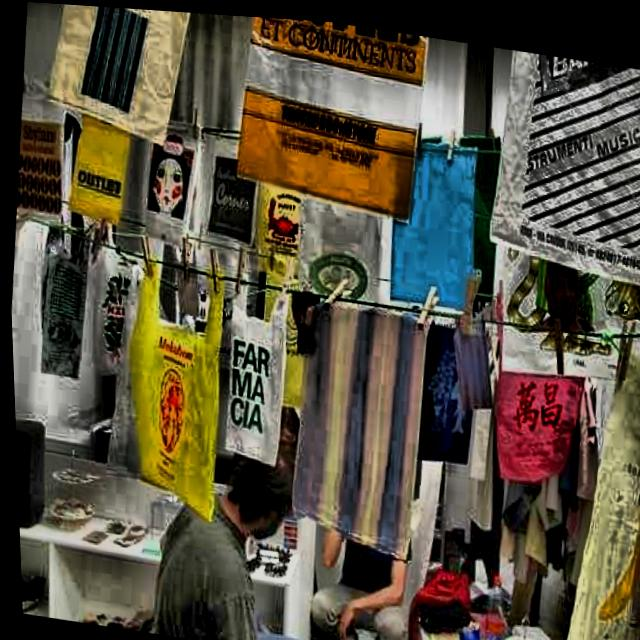Plastic: (276, 254, 446, 572), (101, 219, 245, 542), (196, 261, 326, 487)
